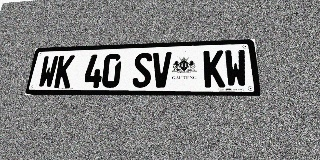0: (101, 54, 122, 88)
4: (83, 54, 104, 88)
K: (203, 50, 225, 87), (53, 55, 75, 88)
S: (132, 52, 152, 88)
V: (151, 52, 172, 88)
W: (224, 49, 248, 87), (37, 56, 59, 88)
